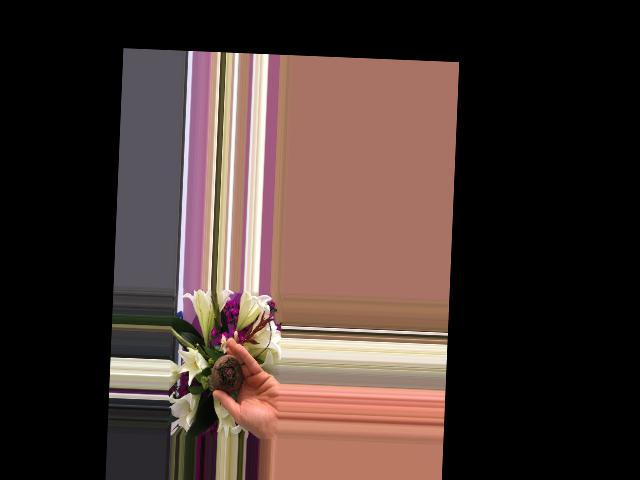beet: (210, 352, 244, 394)
